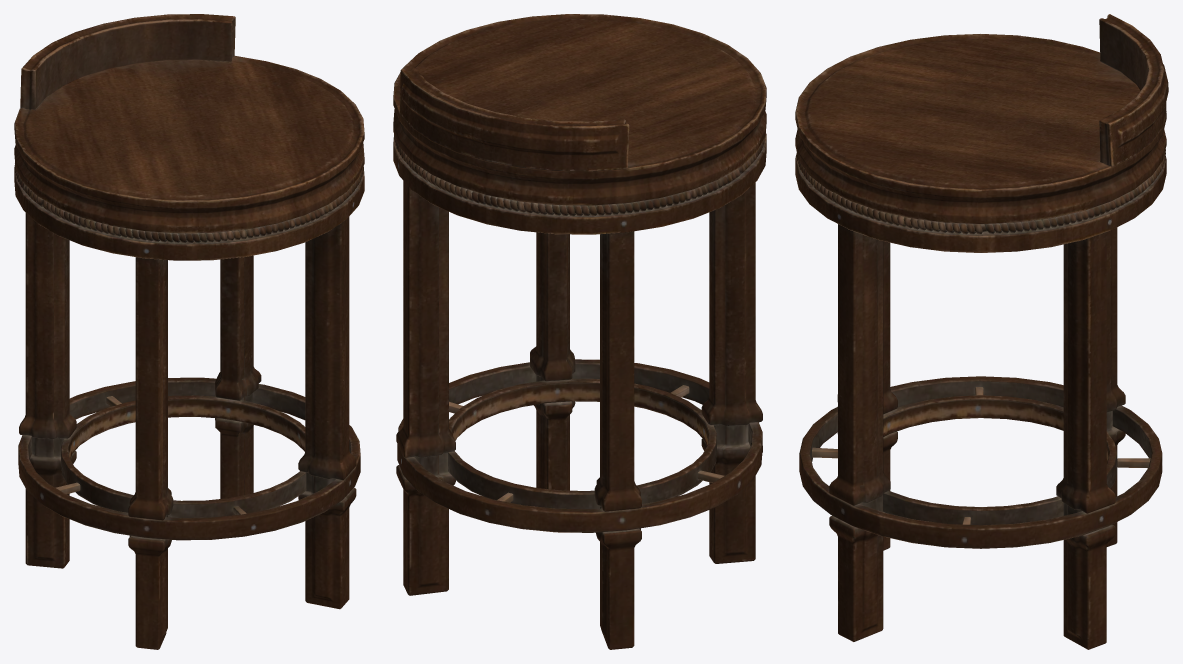
Rendered from bar_chair_round_01_2k_web.glb.
The picture shows the model from 3 angles, left to right: view 1: azimuth 30°, elevation 25°; view 2: azimuth 150°, elevation 25°; view 3: azimuth 270°, elevation 25°; orthographic projection. The views are drawn at different scales.
Parts seen in each view (by area): view 1: bar_chair_round_01; view 2: bar_chair_round_01; view 3: bar_chair_round_01.
Part boxes in pixels (x1,y1,x2,y2): bar_chair_round_01: (14, 14, 364, 649); bar_chair_round_01: (393, 14, 766, 649); bar_chair_round_01: (795, 14, 1168, 649).
Size of the model in its own units: 0.4832 by 0.7505 by 0.486.
1 material, 1 textured.
